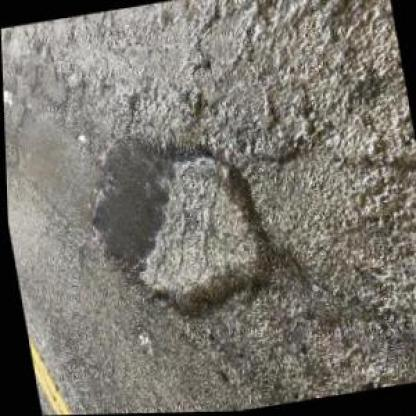pothole: (70, 112, 306, 337)
